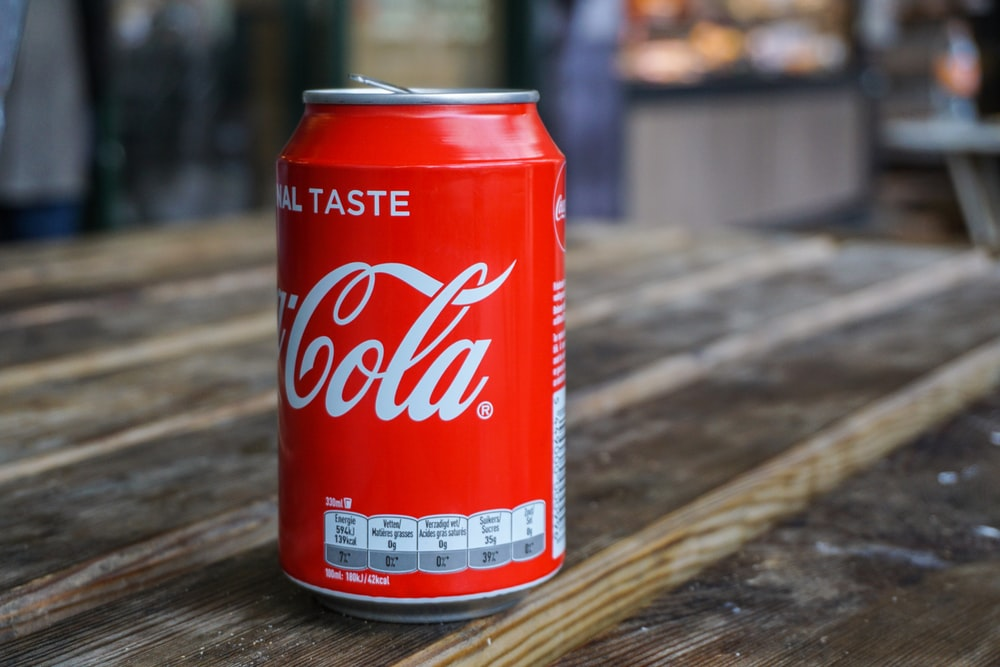can: (261, 66, 582, 629)
